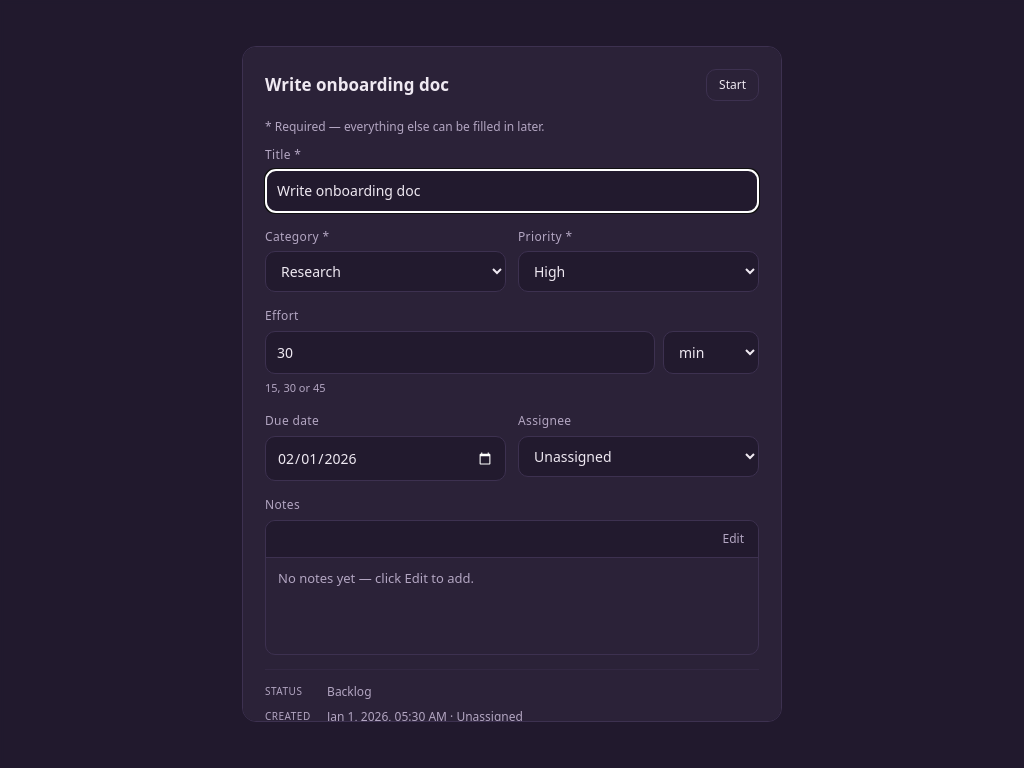
Test: ItemFormModal — create/save submission › shows the server's own message for a non-409 failure
In the field labelled "Title *": (512, 191) x1=265 y1=170 x2=759 y2=213, type "!"
(page scrolled)
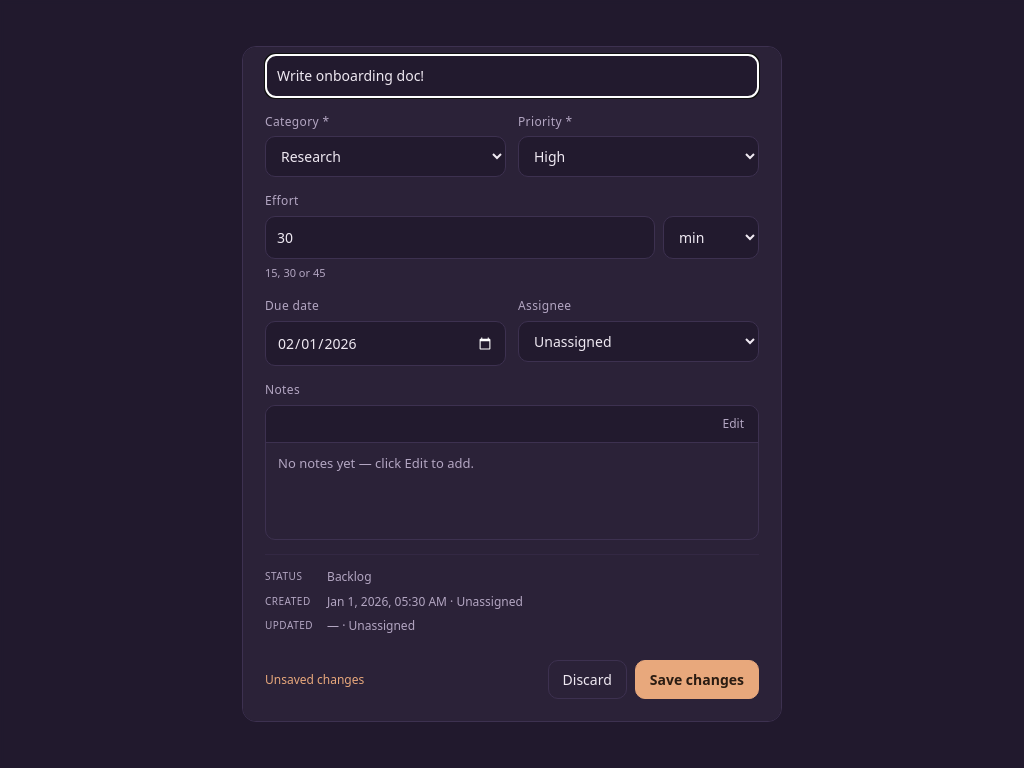
Click the button "Save changes": (697, 680) x1=635 y1=660 x2=759 y2=699
(page scrolled)
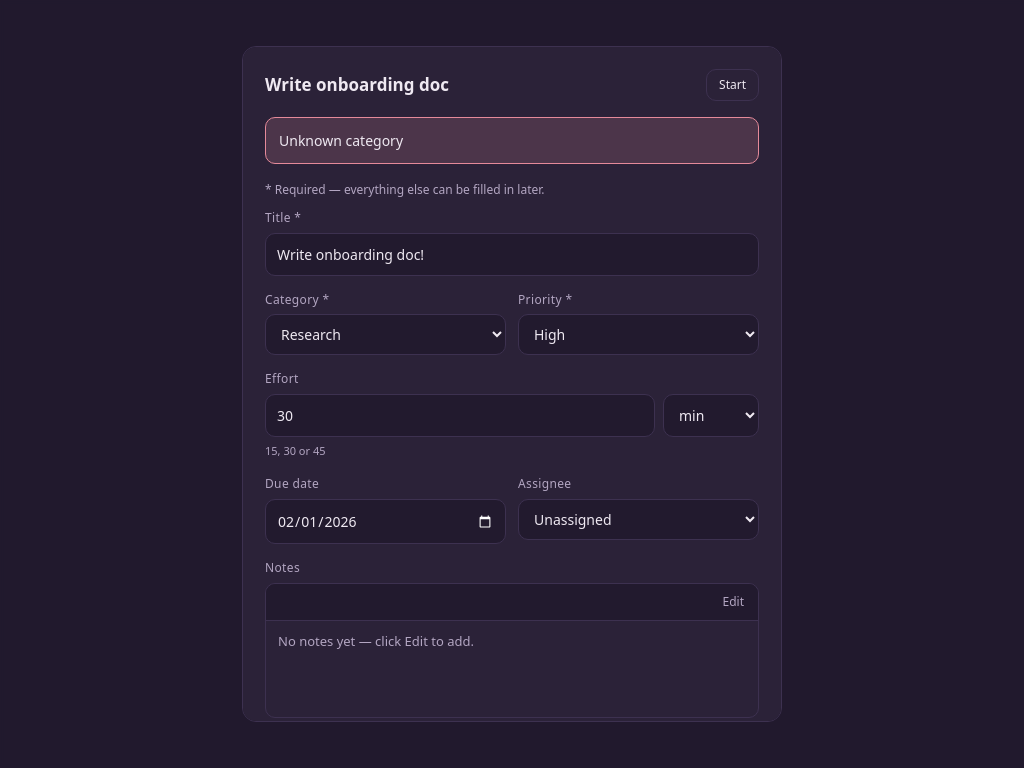
Expected: the text "Unknown category" is shown, x1=265 y1=117 x2=759 y2=164
